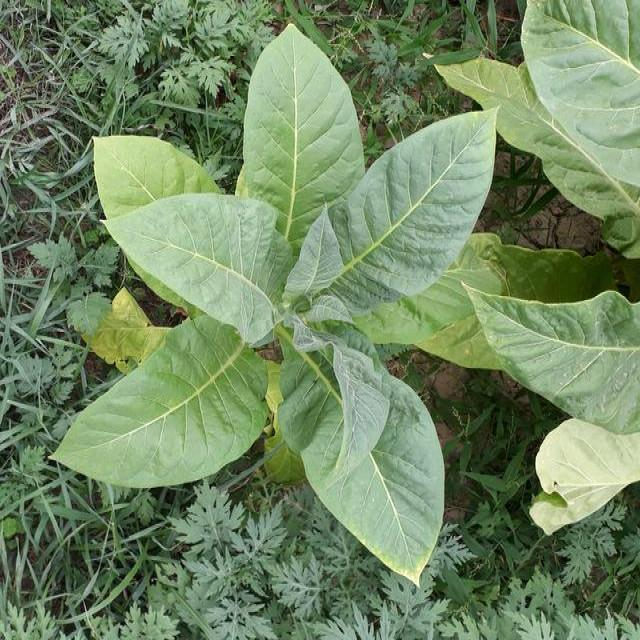crop: (48, 24, 502, 586)
